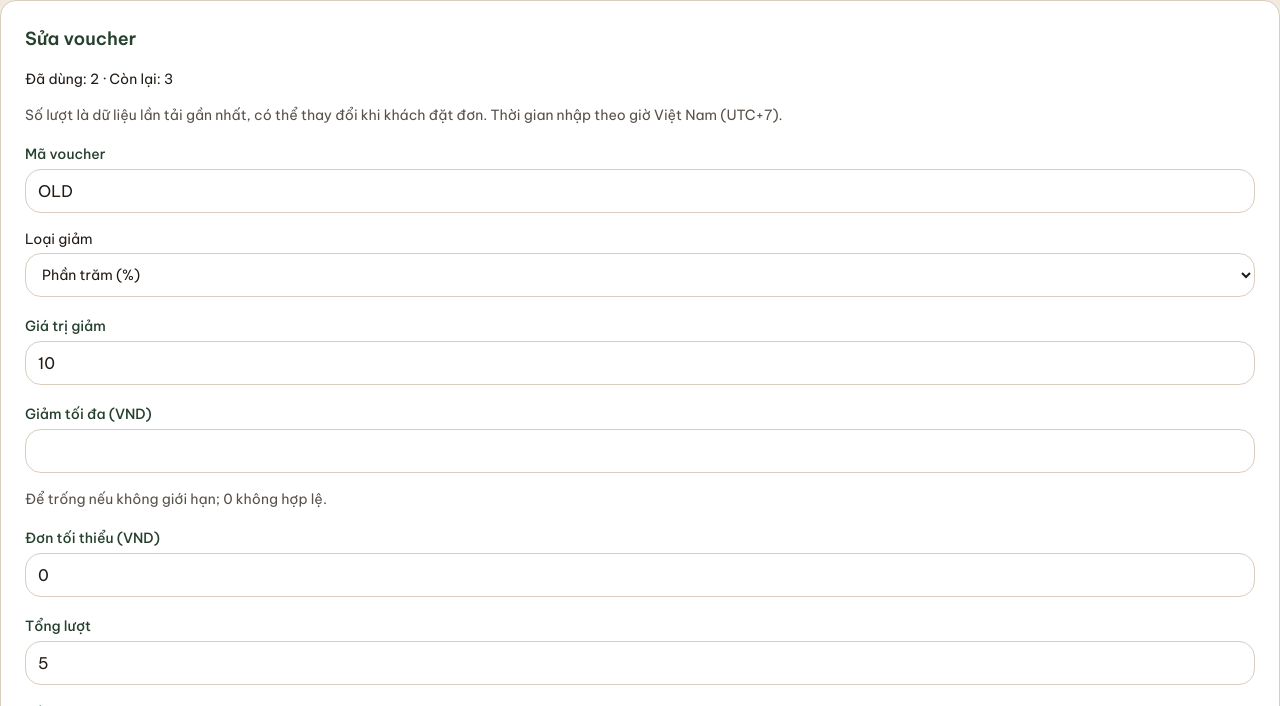
Test case: opens login recovery if reloading usage returns 401 after a rejected write
Replace the text in the number field labelled "Tổng lượt" with "1" at (640, 663), box [25,641,1255,685]
(page scrolled)
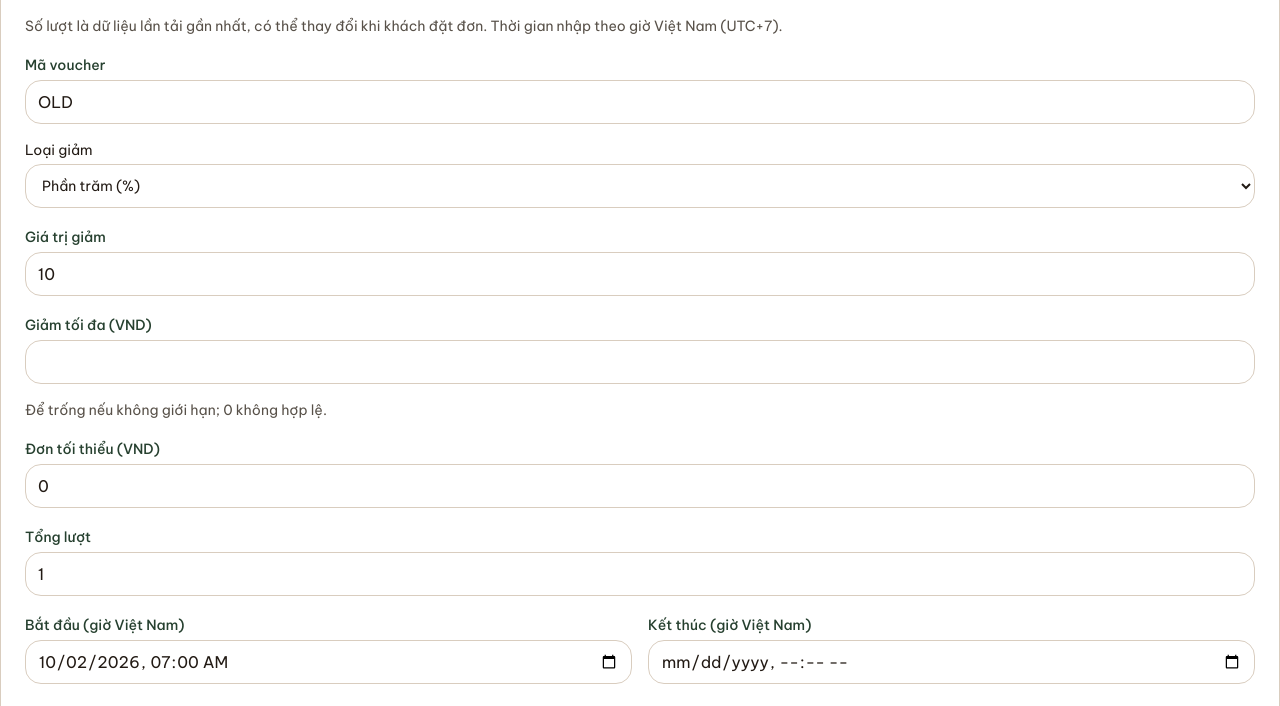
Submit the form named "Lưu voucher"
(page scrolled)
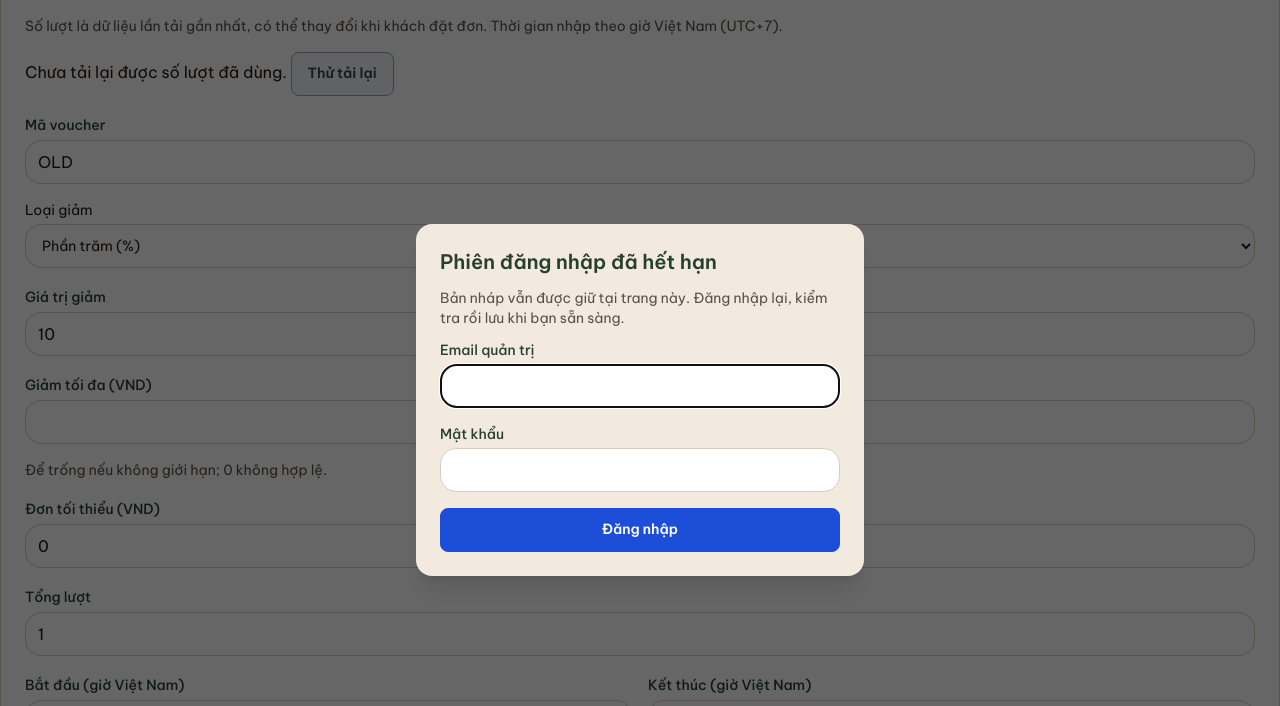
Result: the dialog "Đăng nhập lại" is shown at [416,224,864,576]
